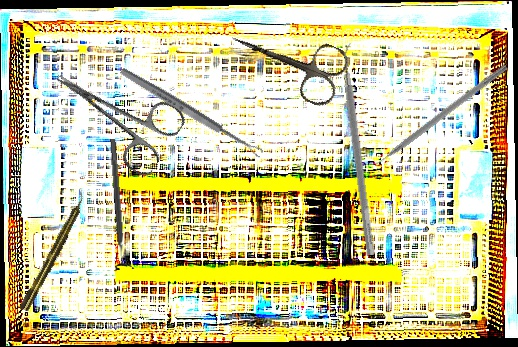Chopper: (359, 55, 510, 175)
Fixation Ring: (102, 138, 135, 271)
Handpiece: (17, 190, 91, 315)
Iris Scissors: (38, 43, 190, 180), (220, 8, 353, 111)
Spatula Surgical: (336, 42, 385, 256)
Surgical Spoon: (118, 65, 265, 160)
